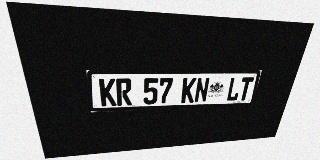5: (143, 78, 158, 105)
7: (158, 78, 173, 104)
K: (99, 78, 117, 106), (181, 78, 197, 103)
L: (226, 77, 242, 101)
N: (194, 78, 210, 103)
R: (116, 78, 132, 106)
T: (237, 77, 254, 101)
